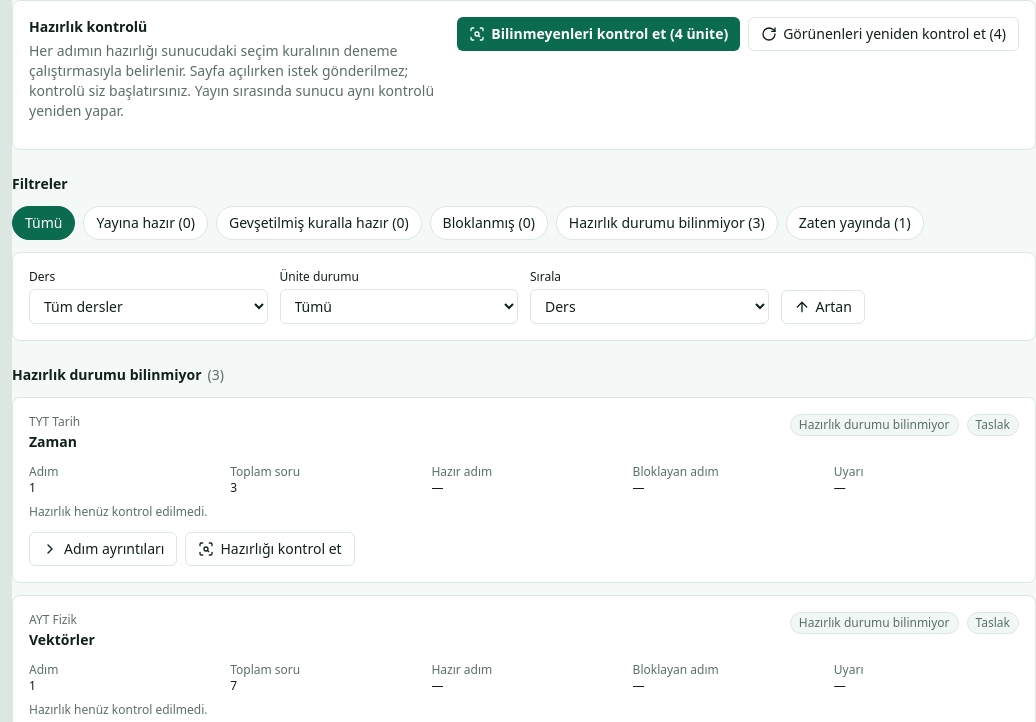
it: PublishingCenter readiness › stops on a rate limit and explains it
Click the button "Bilinmeyenleri kontrol et (4 ünite)" at x=599, y=34, box [457,17,740,51]
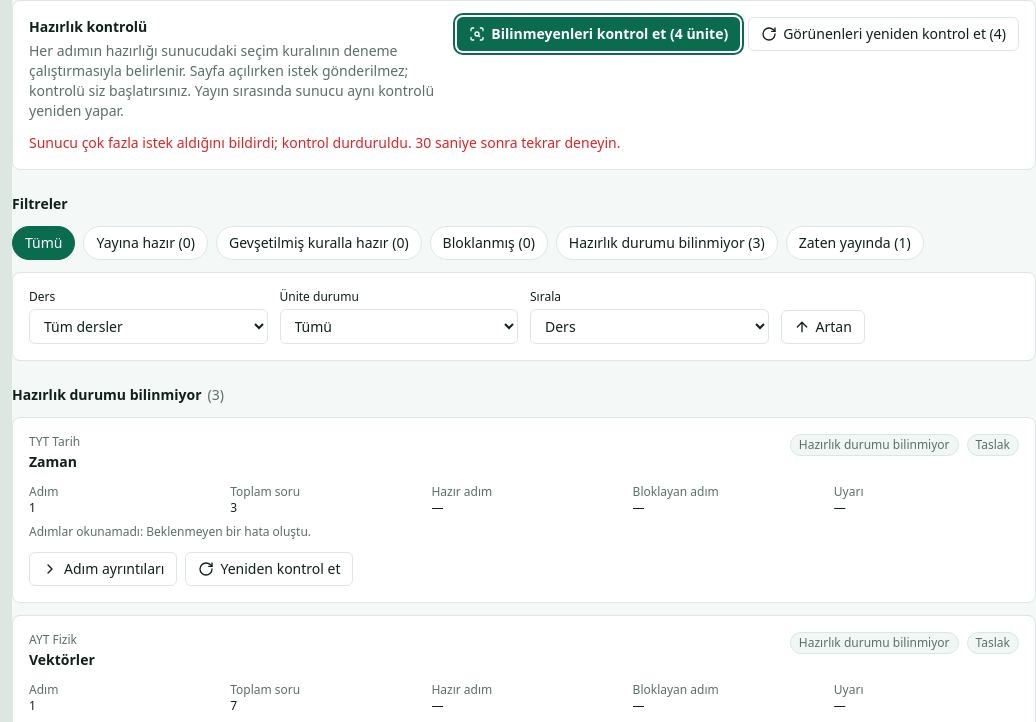
Expected: the text "30 saniye sonra tekrar deneyin" is shown, [412,133,620,152]
